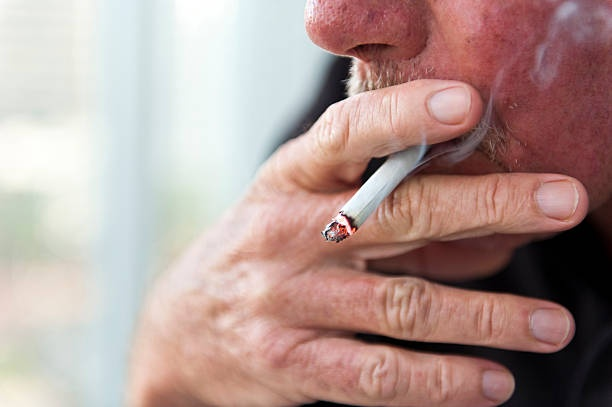sigaretta: (309, 136, 428, 242)
